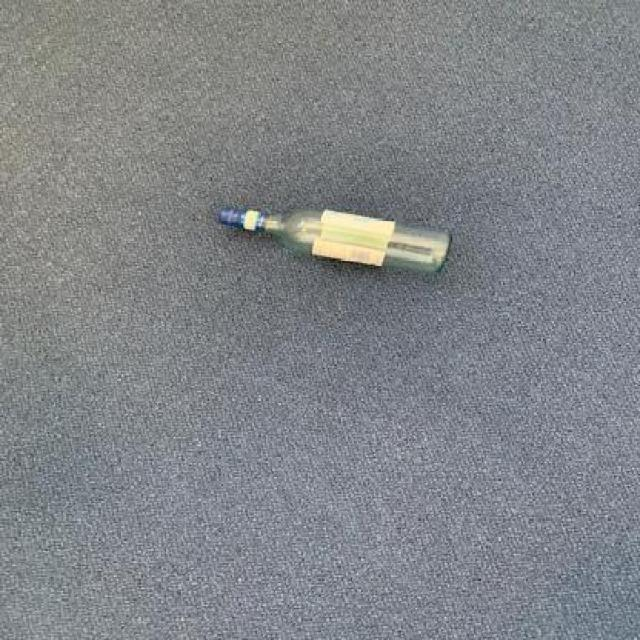trash: (208, 202, 462, 282)
